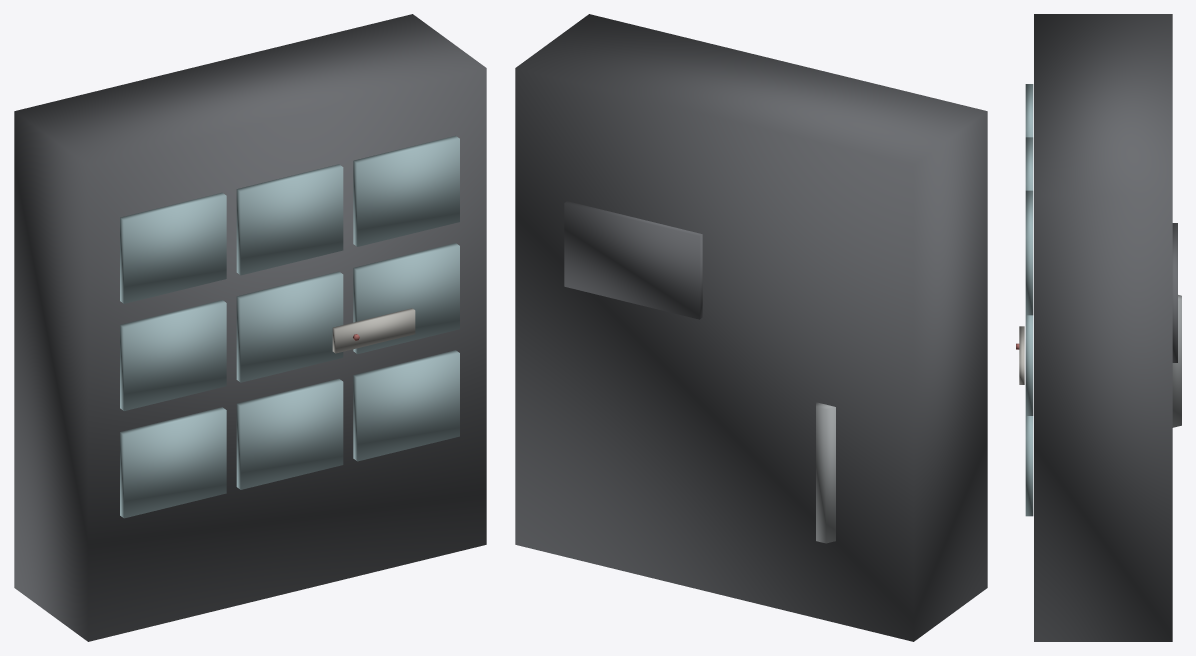
File: security_monitor_bank__service.glb
3 renders of one model, left to right at view 1: azimuth 30°, elevation 25°; view 2: azimuth 150°, elevation 25°; view 3: azimuth 270°, elevation 25°, orthographic. The views are drawn at different scales.
Parts seen in each view (by area): view 1: world; view 2: world; view 3: world.
Boxes of the visible parts, box(x1,y1,x2,y2) form: world: box(14, 14, 486, 641); world: box(515, 14, 987, 641); world: box(1016, 14, 1181, 641).
Bounding box in the file's own units: 1.4 × 1.6 × 0.5388.
